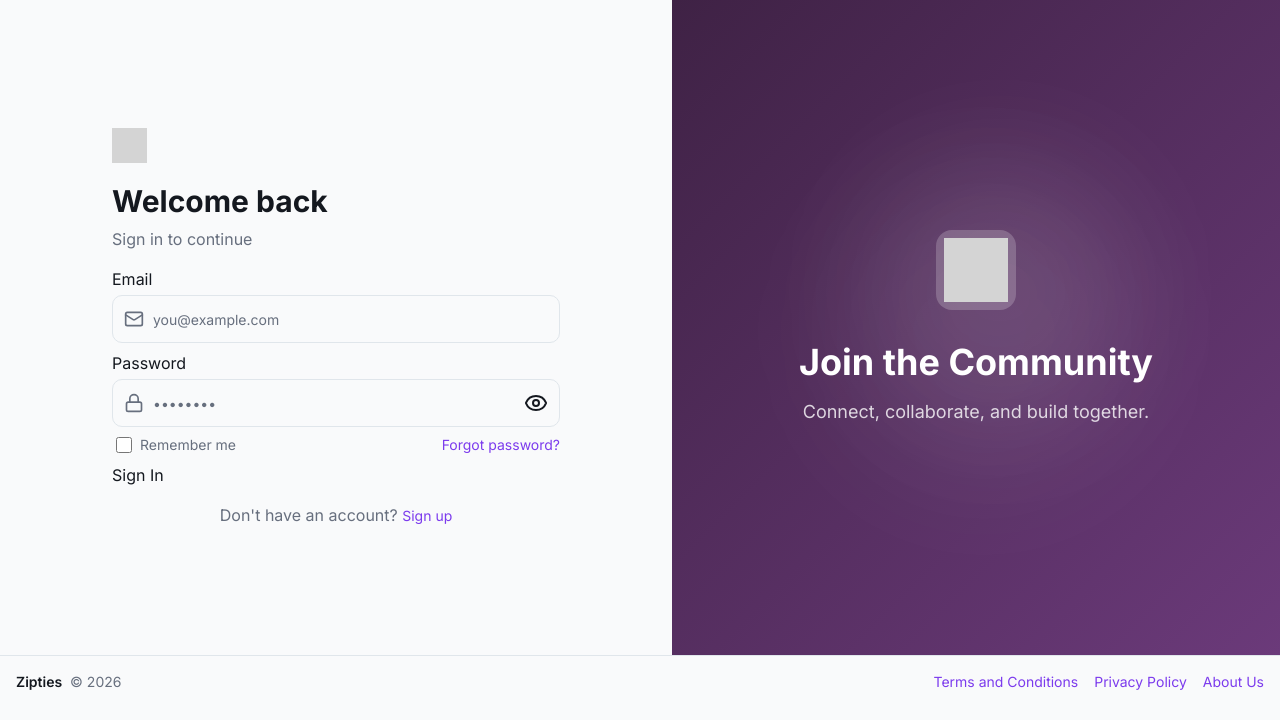
it: Signup Page › renders all required fields for signup
# Switch to signup
Click the button "Sign up": (427, 516) [402,506,452,526]
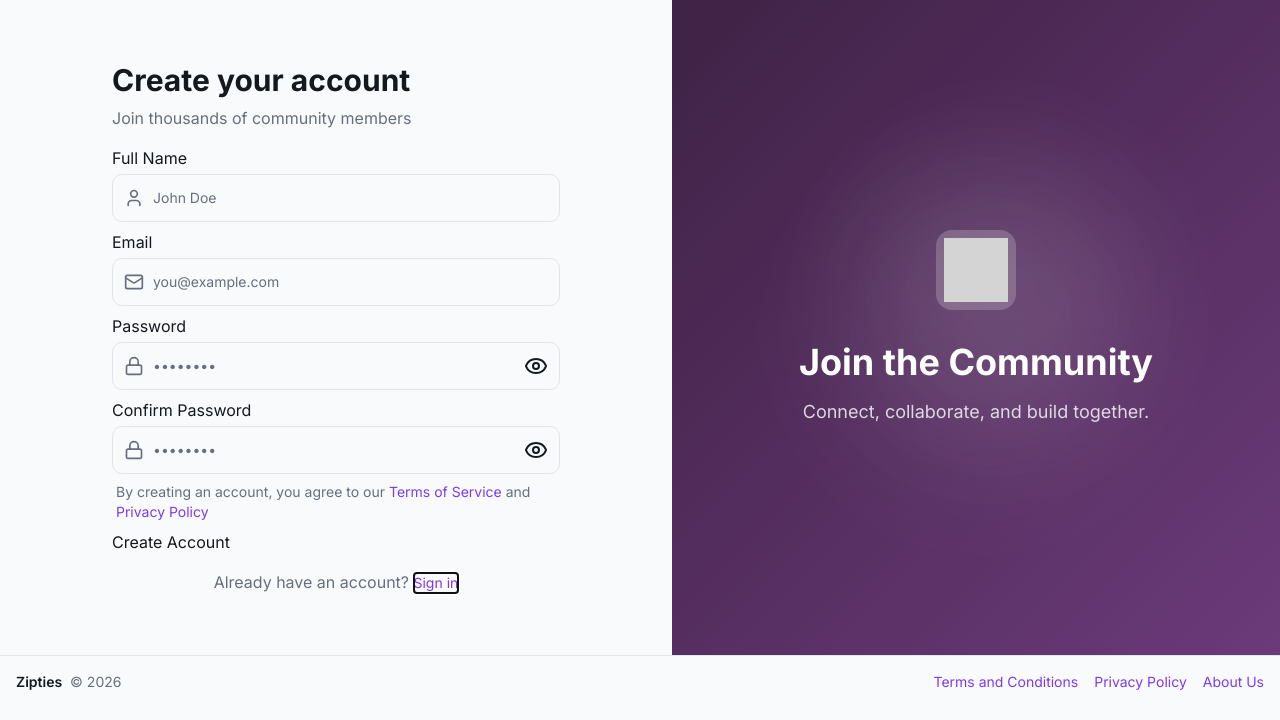
Expected: the field with placeholder "you@example.com" is shown, [112,258,560,306]
Expected: the field with placeholder "John Doe" is shown, [112,174,560,222]
